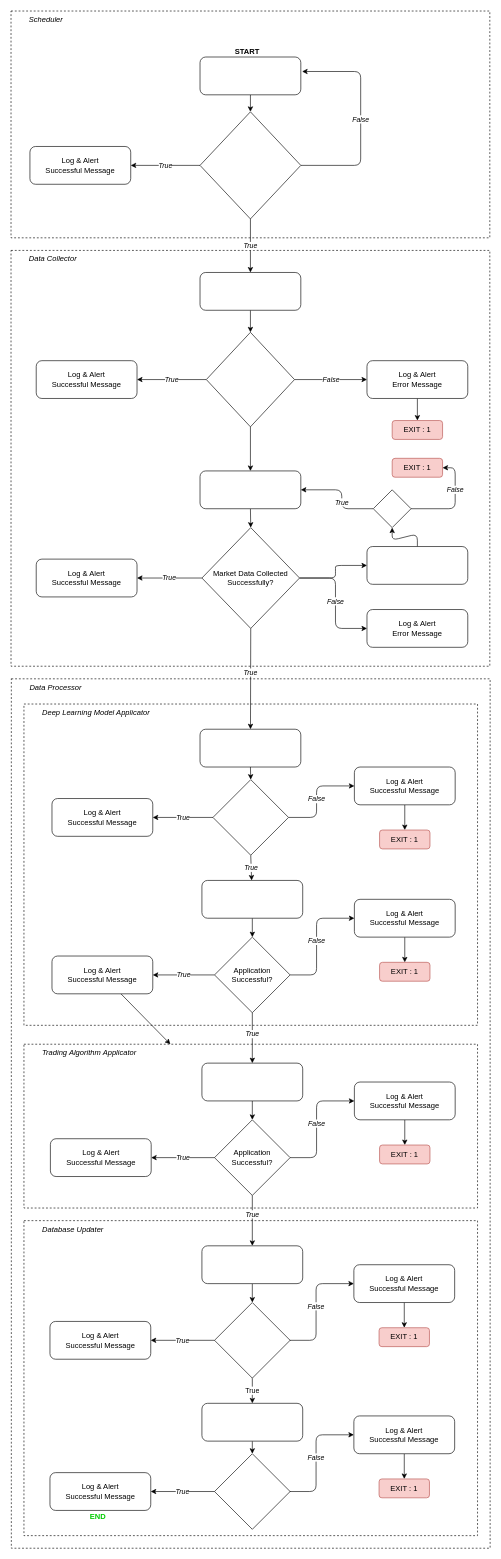
Some shapes in this 501 by 1559 pixel diagram are drawn without their labels. The centre of each missing label's shape, as x and y in pixels:
"API Key Retrieved?" goes at point (250, 379).
"Apply Deep Learning Model to Collected Market Data" goes at point (252, 899).
"Apply Trading Algorithm" goes at point (252, 1081).
"Collect End-of-Day Historical Market Price Data" goes at point (250, 489).
"Current Date and Time == Schedule System Start" goes at point (250, 165).
"Delete Old Data from Database" goes at point (252, 1264).
"Deletion Successful?" goes at point (252, 1340).
"Increment Number of Retries (n)" goes at point (417, 565).
"Load Deep Learning Model" goes at point (250, 748).
"Model Loaded Successfully?" goes at point (250, 817).
"n > 5" goes at point (392, 508).
"Retrieve API Key" goes at point (250, 291).
"Start Instance of Schedule" goes at point (250, 75).
"Update Database with New Data" goes at point (252, 1422).
"Update Successful?" goes at point (252, 1491).
